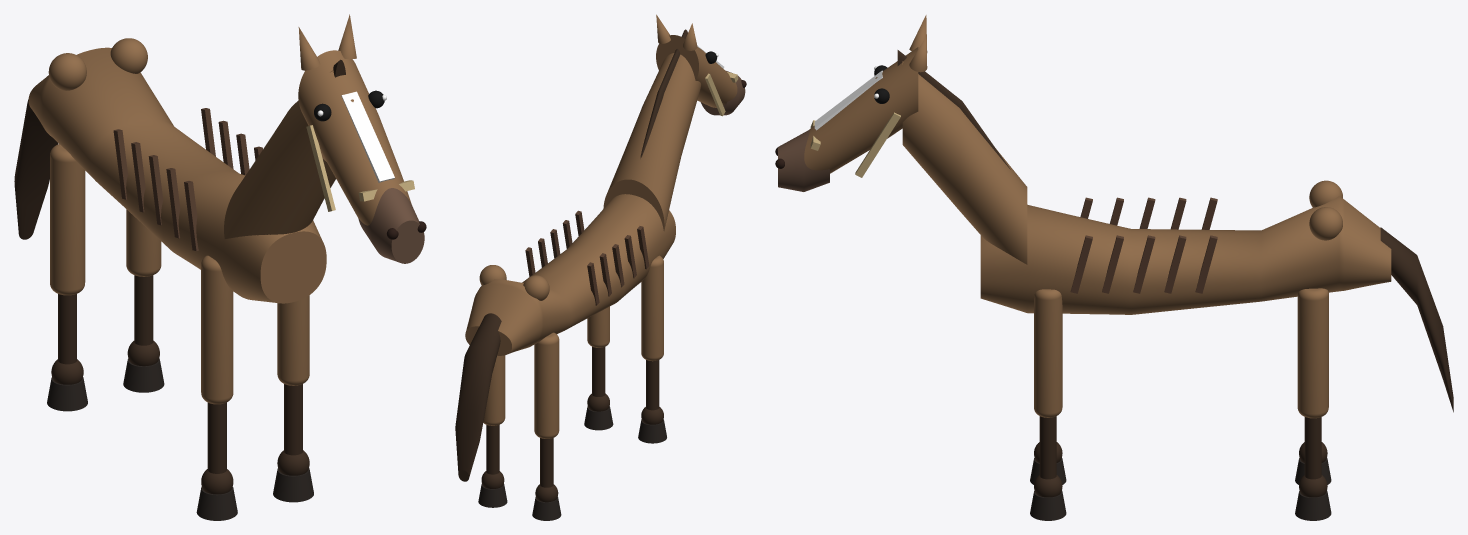
The model's file is thin_horse.glb.
3 views of the same model, side by side, from view 1: azimuth 30°, elevation 25°; view 2: azimuth 150°, elevation 25°; view 3: azimuth 270°, elevation 25° (orthographic). The views are drawn at different scales.
Visible parts, largest first — view 1: Body, Neck, Head, Upper_HL, Upper_FL, Tail, Muzzle, Upper_FR, Upper_HR, Blaze, Lower_FL, Lower_HR (+19 smaller); view 2: Body, Neck, Tail, Upper_HL, Upper_FL, Head, Upper_HR, Upper_FR, Mane, Lower_FL, Lower_FR, Lower_HR (+8 smaller); view 3: Body, Neck, Head, Upper_HR, Upper_FR, Tail, Muzzle, Lower_FR, Lower_HR, HipBone_R, Hoof_FR, Hoof_HR (+1 smaller).
Boxes of the visible parts, x1,y1,x2,y2 form: Body: [28, 47, 326, 303]; Neck: [224, 68, 345, 238]; Head: [298, 50, 411, 225]; Upper_HL: [50, 144, 85, 295]; Upper_FL: [201, 255, 233, 404]; Tail: [14, 99, 58, 239]; Muzzle: [358, 188, 424, 263]; Upper_FR: [277, 295, 309, 385]; Upper_HR: [126, 209, 161, 276]; Blaze: [341, 91, 394, 182]; Lower_FL: [207, 402, 226, 473]; Lower_HR: [134, 275, 153, 345]; Body: [465, 194, 675, 355]; Neck: [603, 53, 700, 231]; Tail: [455, 313, 501, 481]; Upper_HL: [534, 332, 559, 438]; Upper_FL: [641, 255, 663, 361]; Head: [656, 35, 737, 107]; Upper_HR: [483, 355, 505, 425]; Upper_FR: [587, 306, 609, 347]; Mane: [640, 29, 687, 158]; Lower_FL: [646, 360, 659, 410]; Lower_FR: [592, 346, 605, 396]; Lower_HR: [486, 425, 499, 474]; Body: [980, 196, 1391, 314]; Neck: [902, 61, 1027, 264]; Head: [804, 47, 918, 173]; Upper_HR: [1297, 288, 1328, 418]; Upper_FR: [1034, 289, 1062, 417]; Tail: [1380, 227, 1453, 412]; Muzzle: [778, 130, 829, 191]; Lower_FR: [1039, 416, 1056, 479]; Lower_HR: [1304, 417, 1321, 479]; HipBone_R: [1309, 207, 1342, 240]; Hoof_FR: [1030, 490, 1066, 520]; Hoof_HR: [1295, 491, 1331, 520].
Bounding box in the file's own units: 0.44 × 2 × 2.61.
